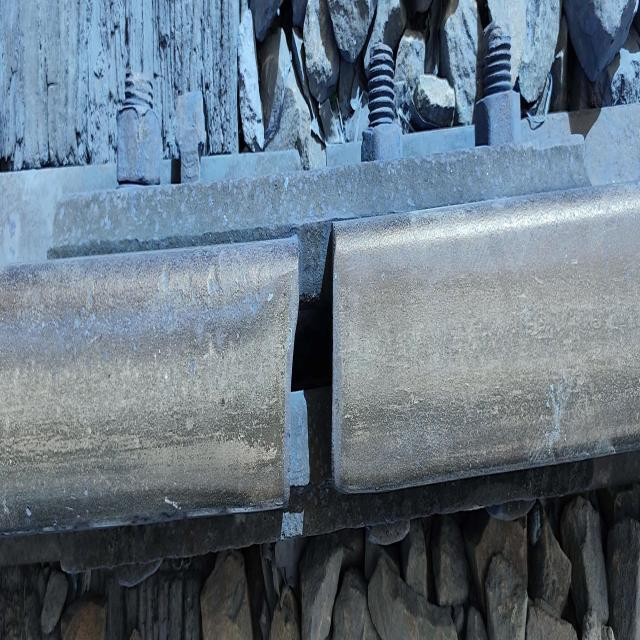Defective Joint: (52, 15, 608, 567)
Good Fasteners: (176, 91, 206, 183)
